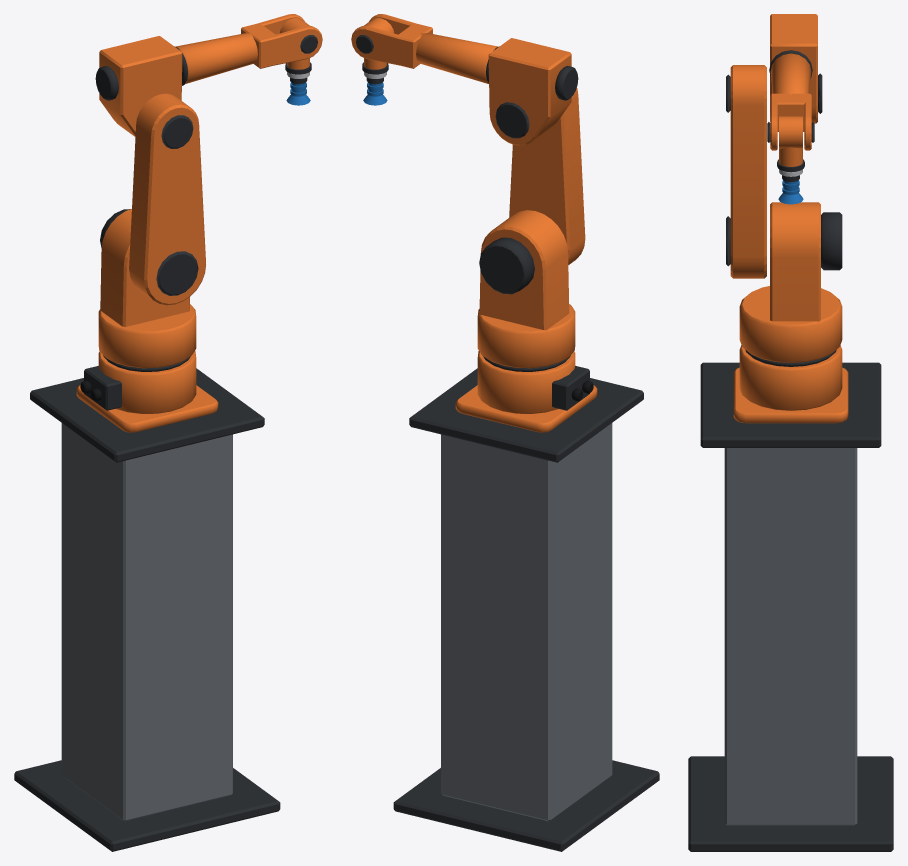
Rendered from robot_6axis.glb.
3 renders of one model, left to right at view 1: azimuth 30°, elevation 25°; view 2: azimuth 150°, elevation 25°; view 3: azimuth 270°, elevation 25°, orthographic. The views are drawn at different scales.
Visible parts, largest first — view 1: Pedestal, Link_2, Link_1, Base, Link_3, Link_4, Link_5, Link_6; view 2: Pedestal, Link_1, Link_3, Base, Link_2, Link_4, Link_5, Link_6; view 3: Pedestal, Link_1, Link_2, Base, Link_4, Link_3, Link_5, Link_6.
Boxes of the visible parts, x1=… form: Pedestal: x1=14, y1=368, x2=280, y2=851; Link_2: x1=129, y1=93, x2=205, y2=305; Link_1: x1=98, y1=209, x2=196, y2=368; Base: x1=76, y1=351, x2=218, y2=432; Link_3: x1=95, y1=36, x2=182, y2=136; Link_4: x1=174, y1=14, x2=322, y2=85; Link_5: x1=279, y1=18, x2=311, y2=74; Link_6: x1=286, y1=72, x2=310, y2=105; Pedestal: x1=393, y1=368, x2=659, y2=851; Link_1: x1=477, y1=210, x2=575, y2=368; Link_3: x1=488, y1=38, x2=578, y2=145; Base: x1=455, y1=351, x2=597, y2=432; Link_2: x1=509, y1=87, x2=585, y2=264; Link_4: x1=351, y1=14, x2=499, y2=83; Link_5: x1=362, y1=18, x2=394, y2=74; Link_6: x1=363, y1=72, x2=387, y2=105; Pedestal: x1=688, y1=362, x2=893, y2=851; Link_1: x1=739, y1=202, x2=842, y2=362; Link_2: x1=726, y1=65, x2=766, y2=278; Base: x1=733, y1=345, x2=848, y2=423; Link_4: x1=767, y1=50, x2=814, y2=150; Link_3: x1=770, y1=14, x2=822, y2=123; Link_5: x1=777, y1=116, x2=804, y2=172; Link_6: x1=778, y1=169, x2=803, y2=204.
Bounding box in the file's own units: 0.502 × 1.42 × 0.34.
